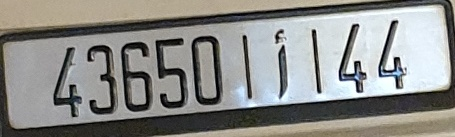0: (189, 33, 225, 105)
3: (84, 43, 120, 116)
4: (50, 45, 84, 118), (336, 22, 369, 96), (377, 19, 411, 90)
5: (155, 37, 190, 108)
6: (120, 41, 155, 113)
a: (273, 27, 291, 100)
